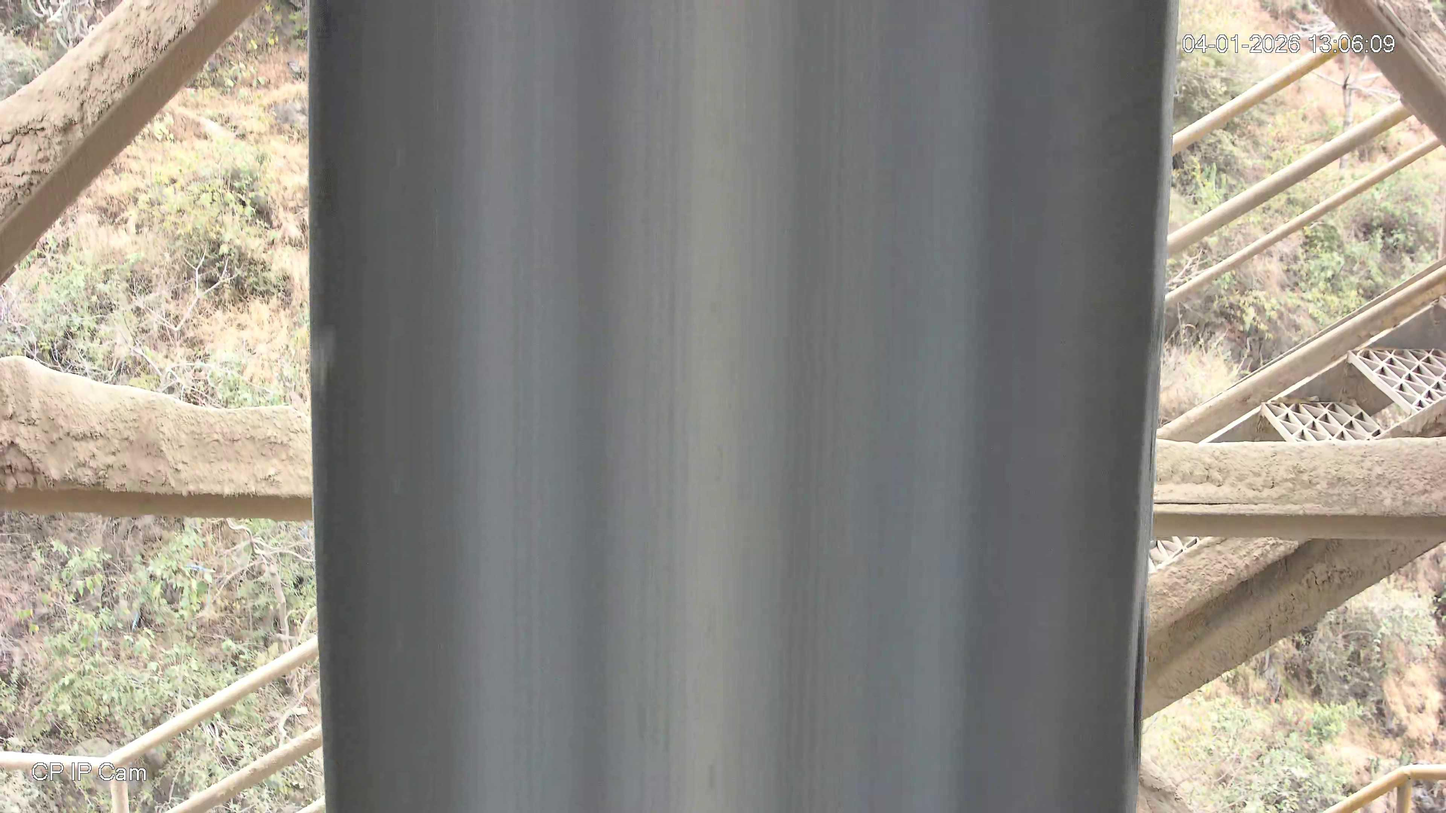belt_roi: (303, 0, 1181, 813)
